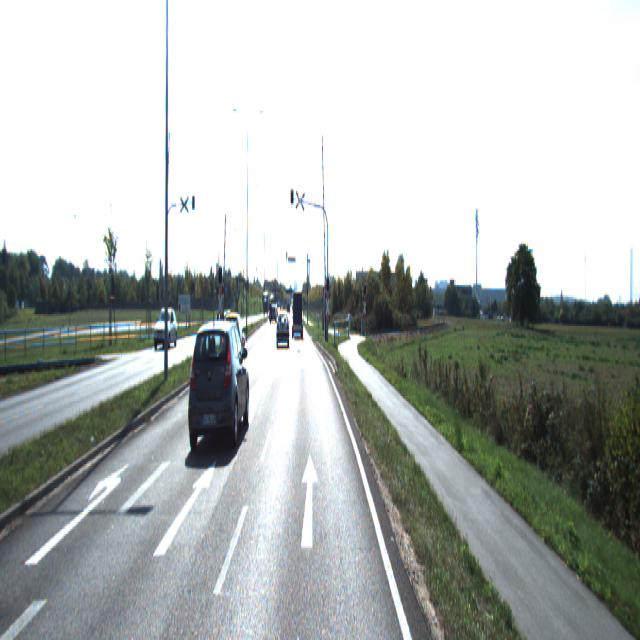Car: (188, 311, 251, 460), (222, 312, 246, 366), (153, 308, 178, 351), (293, 290, 303, 338), (276, 313, 290, 347)
